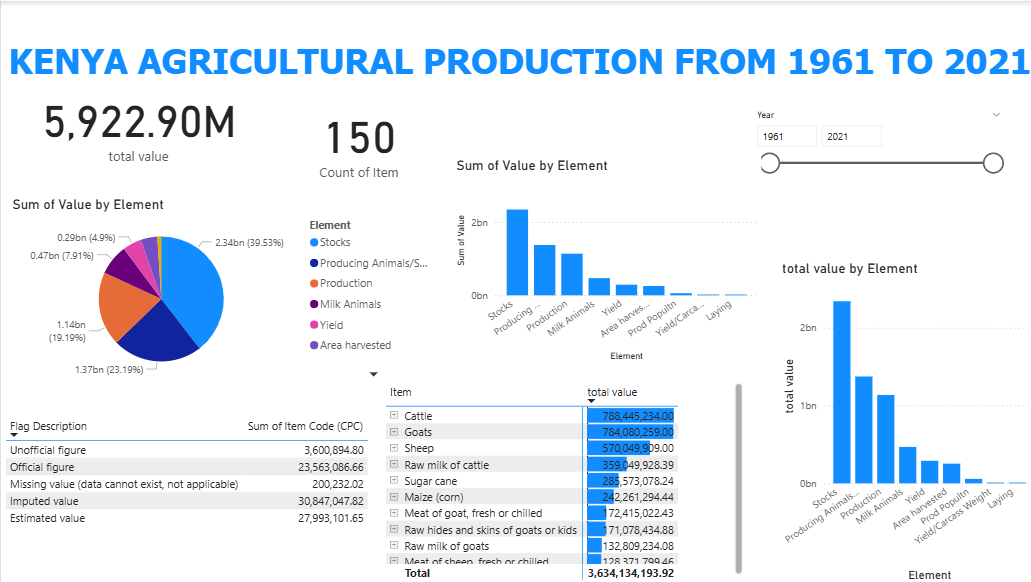

The dashboard page shown, as its layout file describes it:
{"tool":"powerbi","page":{"name":"Page 1","canvas":[1280,720],"ordinal":0},"visuals":[{"type":"tableEx","fields":{"Values":["FAOSTAT_data_en_3-26-2023.Flag Description","Sum(FAOSTAT_data_en_3-26-2023.Item Code (CPC))"]},"box":[0,508.4,469.6,181.2],"z":0},{"type":"card","fields":{"Values":["Count(FAOSTAT_data_en_3-26-2023.Item)"]},"box":[325.4,94.3,231.1,155.3],"z":1},{"type":"slicer","fields":{"Values":["FAOSTAT_data_en_3-26-2023.Year"]},"box":[918.9,129.4,325.4,98],"z":3},{"type":"card","fields":{"Values":["FAOSTAT_data_en_3-26-2023.total value"]},"box":[25.9,77.7,286.6,149.8],"z":4},{"type":"pieChart","fields":{"Category":["FAOSTAT_data_en_3-26-2023.Element"],"Y":["Sum(FAOSTAT_data_en_3-26-2023.Value)"]},"box":[9.4,240,532.9,232.4],"z":5},{"type":"columnChart","fields":{"Category":["FAOSTAT_data_en_3-26-2023.Element"],"Y":["Sum(FAOSTAT_data_en_3-26-2023.Value)"]},"box":[556.5,192.3,380.9,255.1],"z":6},{"type":"pivotTable","fields":{"Rows":["FAOSTAT_data_en_3-26-2023.Item","FAOSTAT_data_en_3-26-2023.Domain Code","FAOSTAT_data_en_3-26-2023.Domain","FAOSTAT_data_en_3-26-2023.Area Code (M49)","FAOSTAT_data_en_3-26-2023.Area","FAOSTAT_data_en_3-26-2023.Element Code","FAOSTAT_data_en_3-26-2023.Element","FAOSTAT_data_en_3-26-2023.Item Code (CPC)","FAOSTAT_data_en_3-26-2023.Year Code","FAOSTAT_data_en_3-26-2023.Year","FAOSTAT_data_en_3-26-2023.Unit","FAOSTAT_data_en_3-26-2023.Value"],"Values":["FAOSTAT_data_en_3-26-2023.total value"]},"box":[469.6,465.9,449.3,253.3],"z":7},{"type":"clusteredColumnChart","fields":{"Category":["FAOSTAT_data_en_3-26-2023.Element"],"Y":["FAOSTAT_data_en_3-26-2023.total value"]},"box":[957.7,319.8,321.7,399.3],"z":8},{"type":"textbox","box":[0,42.5,1279.4,77.7],"z":9}]}

Visuals, with their boxes in screenshot pixels (x1, y1, x2, y2), scaled from the page's 1280x720 canvas onto the 1031x582 screenshot:
tableEx - FAOSTAT_data_en_3-26-2023.Flag Description x Sum(FAOSTAT_data_en_3-26-2023.Item Code (CPC)): detection(0, 411, 378, 557)
card - Count(FAOSTAT_data_en_3-26-2023.Item): detection(262, 76, 448, 202)
slicer - FAOSTAT_data_en_3-26-2023.Year: detection(740, 105, 1002, 184)
card - FAOSTAT_data_en_3-26-2023.total value: detection(21, 63, 252, 184)
pieChart - FAOSTAT_data_en_3-26-2023.Element x Sum(FAOSTAT_data_en_3-26-2023.Value): detection(8, 194, 437, 382)
columnChart - FAOSTAT_data_en_3-26-2023.Element x Sum(FAOSTAT_data_en_3-26-2023.Value): detection(448, 155, 755, 362)
pivotTable - FAOSTAT_data_en_3-26-2023.Item x FAOSTAT_data_en_3-26-2023.Domain Code: detection(378, 377, 740, 581)
clusteredColumnChart - FAOSTAT_data_en_3-26-2023.Element x FAOSTAT_data_en_3-26-2023.total value: detection(771, 259, 1030, 581)
textbox: detection(0, 34, 1030, 97)
